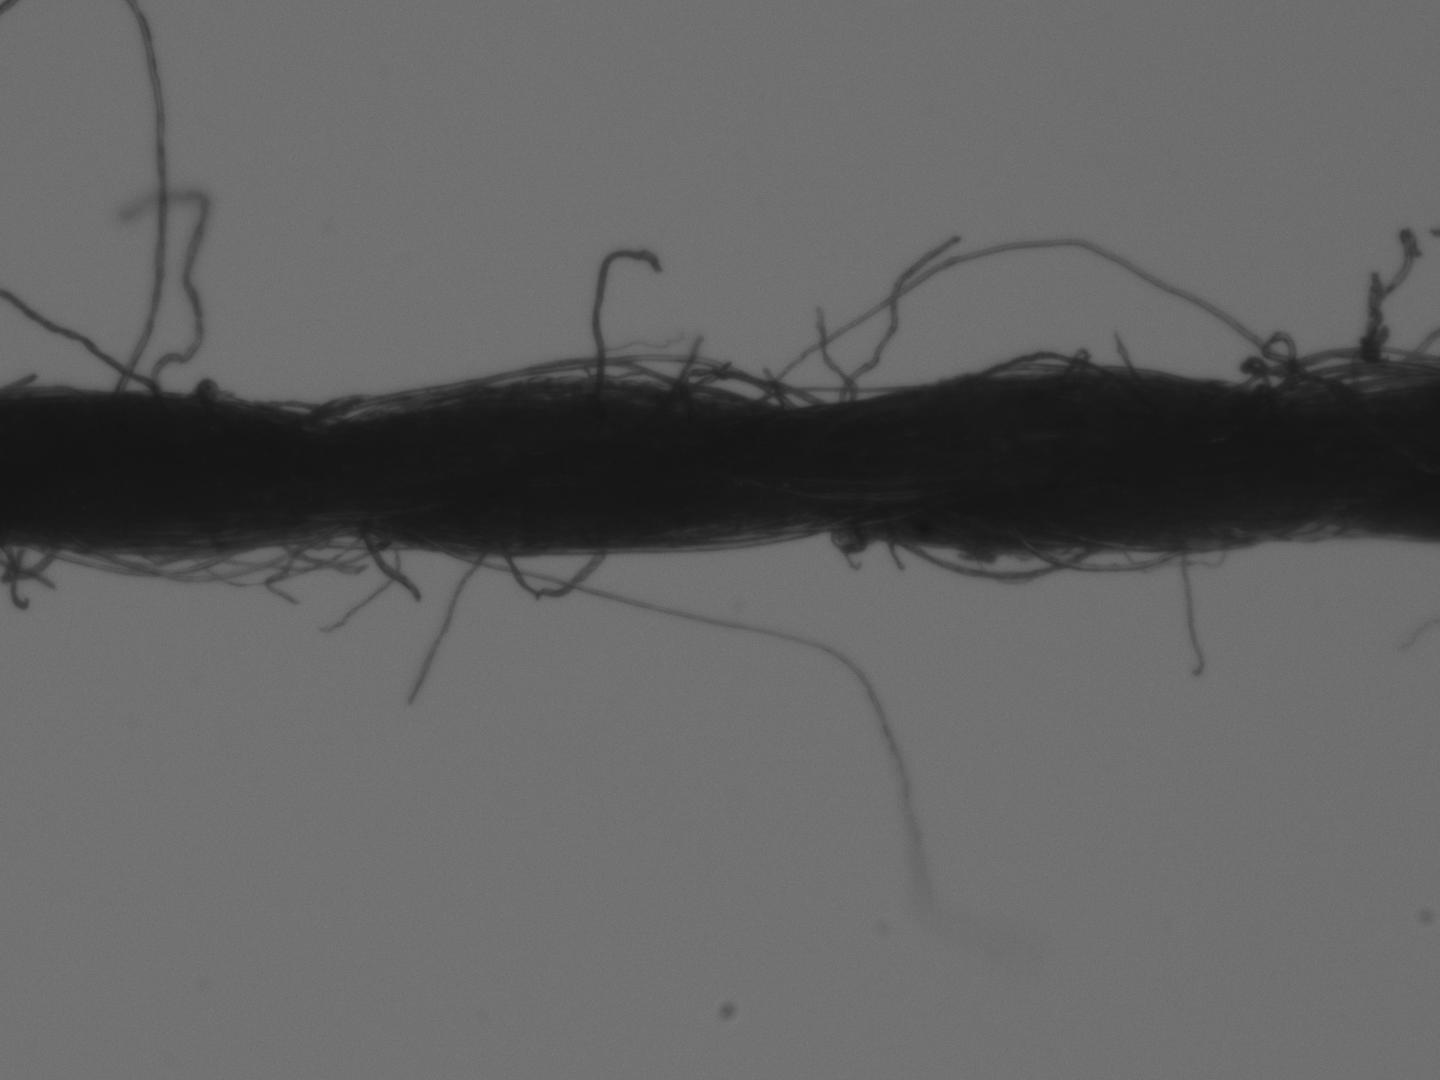loop_fiber: (853, 523, 1116, 587), (984, 505, 1201, 582), (956, 345, 1160, 415), (1229, 328, 1430, 393), (185, 534, 351, 591), (494, 535, 611, 605), (678, 363, 832, 406), (34, 543, 234, 575)
protruding_fiber: (587, 242, 666, 391), (351, 531, 430, 604)
